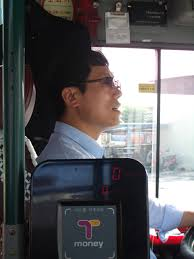terminal: (28, 155, 151, 259)
